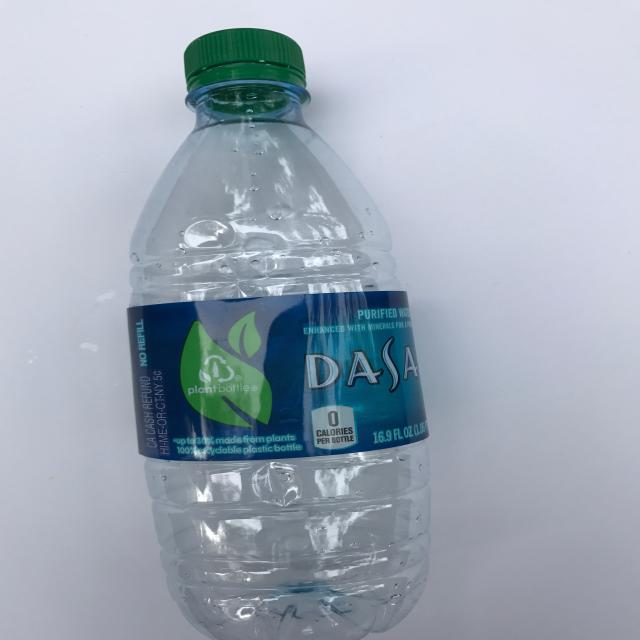plastic: (126, 27, 433, 640)
